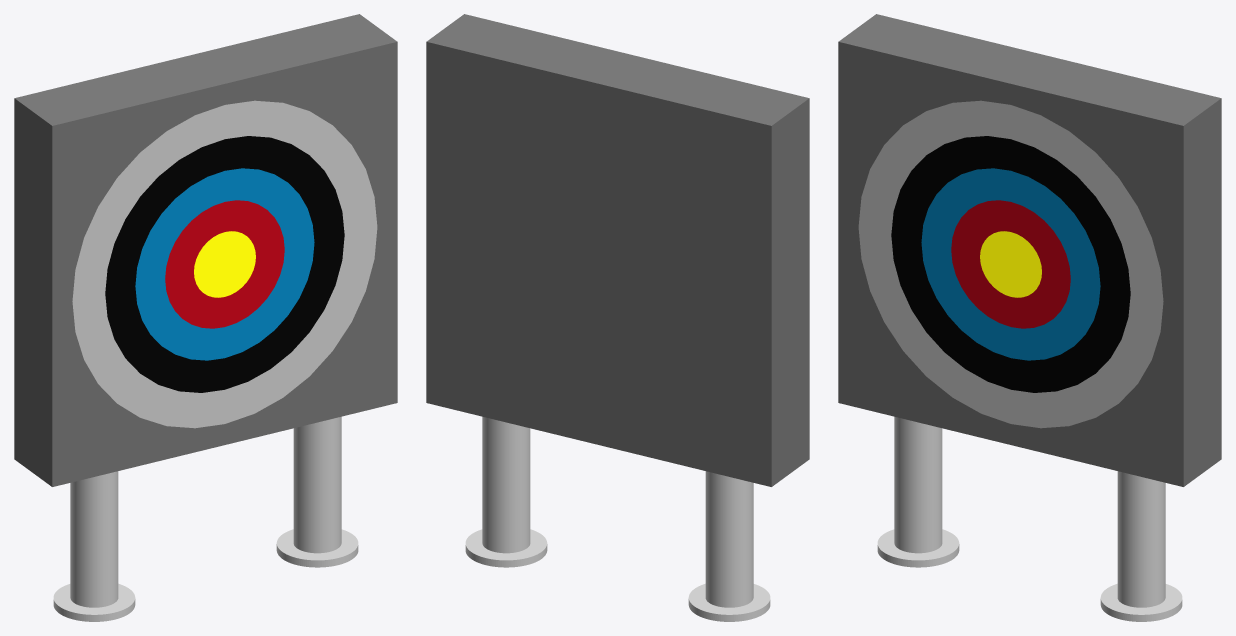
File: Alvo.fbx
3 views of the same model, side by side, from view 1: azimuth 30°, elevation 25°; view 2: azimuth 150°, elevation 25°; view 3: azimuth 330°, elevation 25° (orthographic).
Visible parts, largest first — view 1: Quadro, White(Borda), Black, Pé de Apoio, Blue, Red, Yellow(Center; view 2: Quadro, Pé de Apoio; view 3: Quadro, White(Borda), Black, Pé de Apoio, Blue, Red, Yellow(Center.
Boxes of the visible parts, x1,y1,x2,y2 form: Quadro: [14, 14, 397, 486]; White(Borda): [72, 100, 377, 428]; Black: [105, 136, 344, 392]; Pé de Apoio: [53, 416, 358, 621]; Blue: [135, 168, 314, 360]; Red: [165, 200, 284, 328]; Yellow(Center: [194, 231, 255, 297]; Quadro: [426, 14, 809, 486]; Pé de Apoio: [465, 416, 770, 621]; Quadro: [838, 14, 1221, 486]; White(Borda): [858, 100, 1163, 428]; Black: [891, 136, 1130, 392]; Pé de Apoio: [877, 416, 1182, 621]; Blue: [921, 168, 1100, 360]; Red: [951, 200, 1070, 328]; Yellow(Center: [980, 231, 1041, 297].
Size of the model in its own units: 464 by 652 by 95.03.
